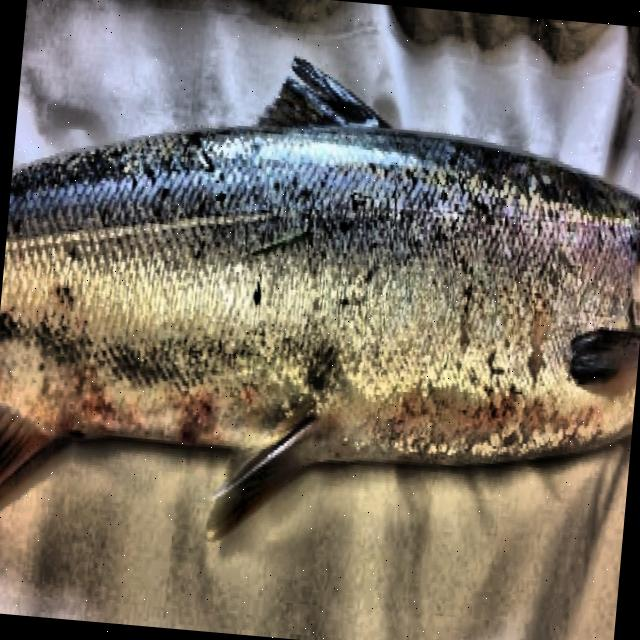mild_red: (0, 127, 640, 461)
